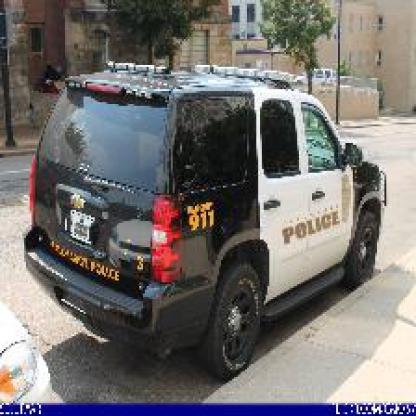emergency: (8, 56, 414, 368)
